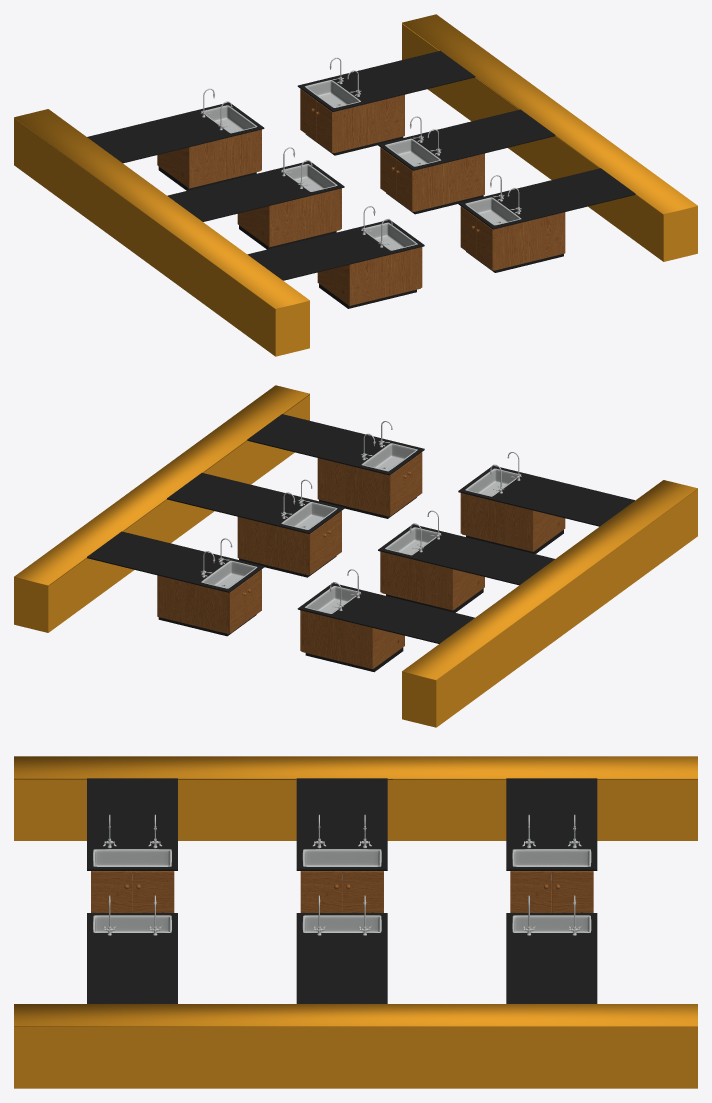
Rendered from StudentDeskLongTabe_set.fbx.
3 renders of one model, top to bottom at view 1: azimuth 30°, elevation 25°; view 2: azimuth 150°, elevation 25°; view 3: azimuth 270°, elevation 25°, orthographic. The views are drawn at different scales.
Parts seen in each view (by area): view 1: StudentDeskLongTabe_set; view 2: StudentDeskLongTabe_set; view 3: StudentDeskLongTabe_set.
Boxes of the visible parts, left/top/right/bottom form: StudentDeskLongTabe_set: left=14, top=14, right=697, bottom=356; StudentDeskLongTabe_set: left=14, top=385, right=697, bottom=727; StudentDeskLongTabe_set: left=14, top=756, right=697, bottom=1088.
Bounding box in the file's own units: 853 × 145 × 914.
